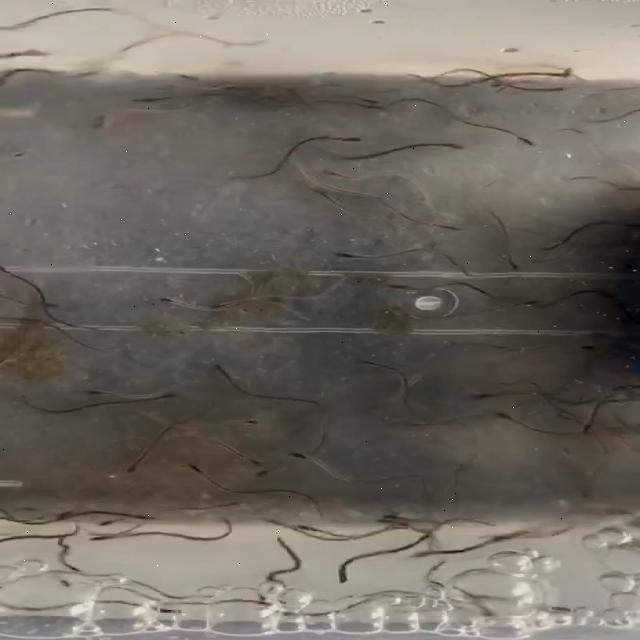active_glass_eel: (77, 107, 118, 133), (79, 532, 137, 546), (16, 295, 70, 310), (494, 252, 530, 274), (280, 448, 324, 466), (202, 295, 251, 311), (288, 524, 344, 538), (133, 603, 182, 619), (488, 410, 530, 428), (402, 546, 452, 561), (177, 458, 214, 478), (318, 568, 358, 586), (121, 454, 153, 476), (253, 463, 290, 482), (506, 131, 540, 151), (147, 388, 193, 402), (344, 90, 384, 106), (352, 357, 390, 373), (468, 388, 518, 400), (484, 530, 530, 543), (124, 91, 166, 105), (384, 280, 426, 294), (73, 383, 109, 399), (370, 508, 418, 520), (428, 220, 470, 233), (432, 139, 468, 153), (200, 359, 230, 375), (506, 299, 544, 311), (239, 452, 267, 468), (534, 69, 578, 79), (369, 518, 413, 528), (322, 169, 358, 181), (230, 417, 268, 428), (328, 250, 369, 260), (158, 295, 182, 312), (56, 572, 75, 592), (90, 517, 126, 527), (544, 85, 581, 94), (16, 312, 44, 323), (334, 135, 366, 143), (14, 148, 29, 162)
